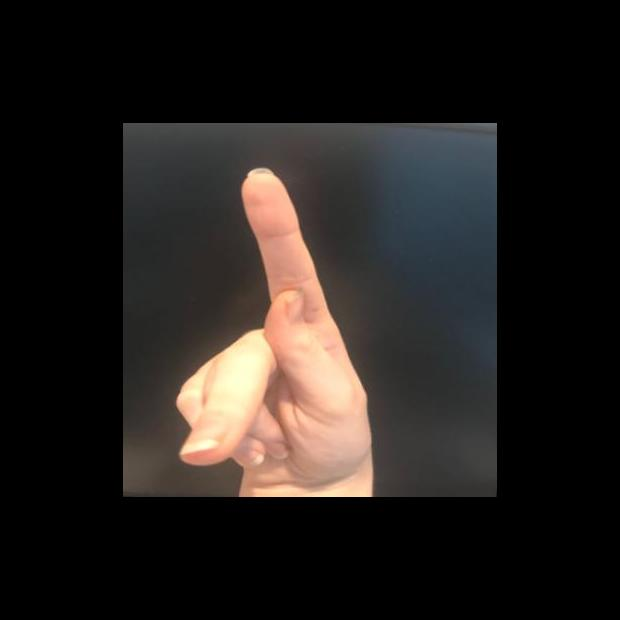O: (166, 158, 411, 495)
